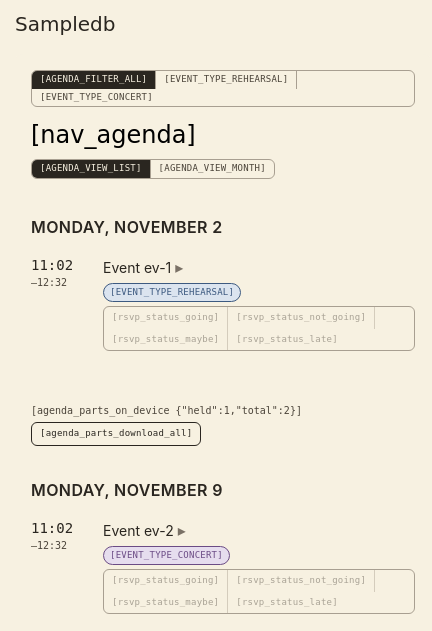
#945 — Download all › saves the missing parts, the count updates and the button goes
This screenshot has width=432, height=631.
Click the button "[agenda_parts_download_all]". click: click(116, 434)
box: 31,422 -> 201,446
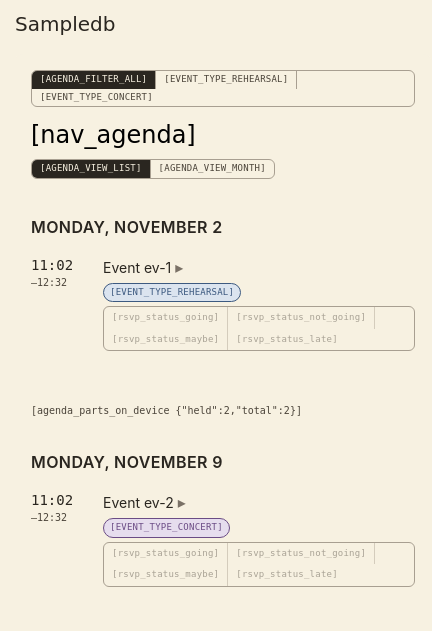
Expected: the button "[agenda_parts_download_all]" is gone
